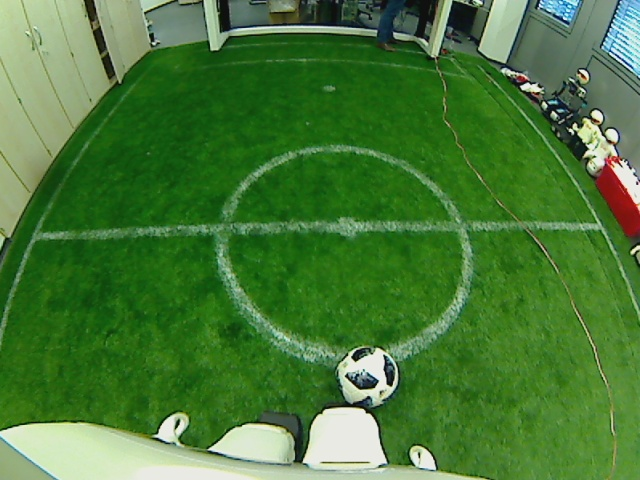ball: (334, 341, 401, 411)
